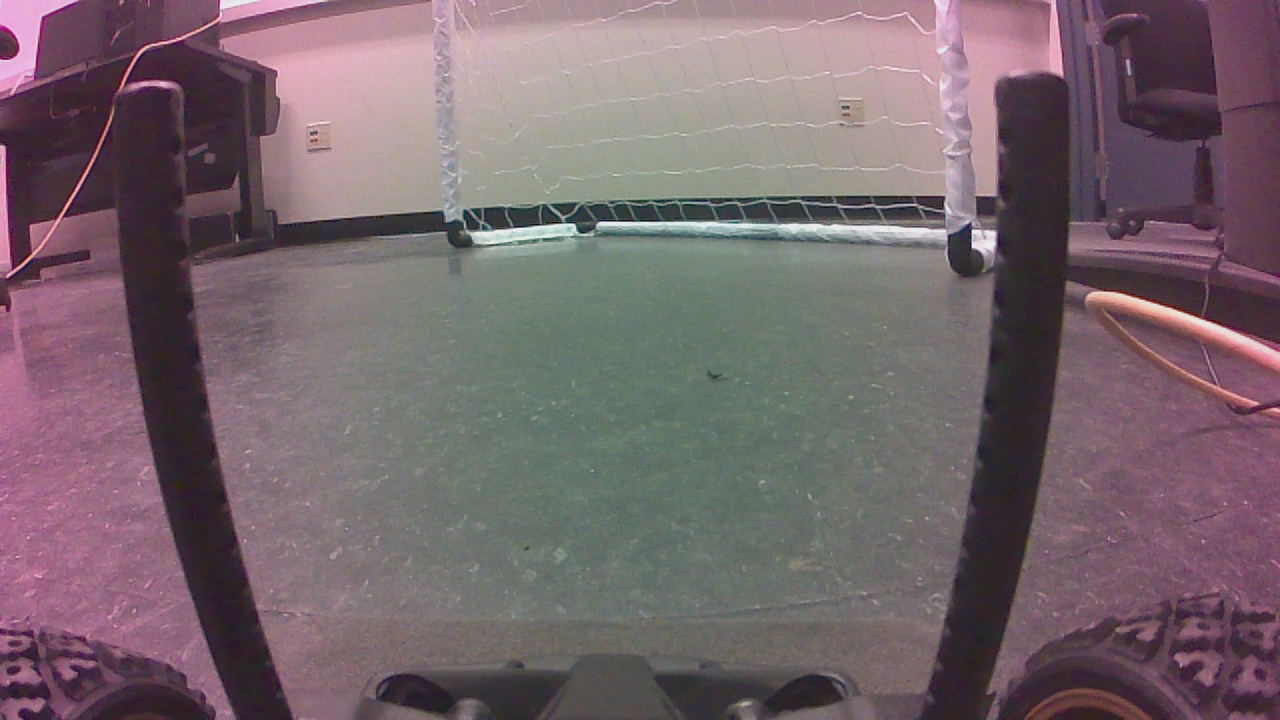goal: (434, 4, 1019, 282)
